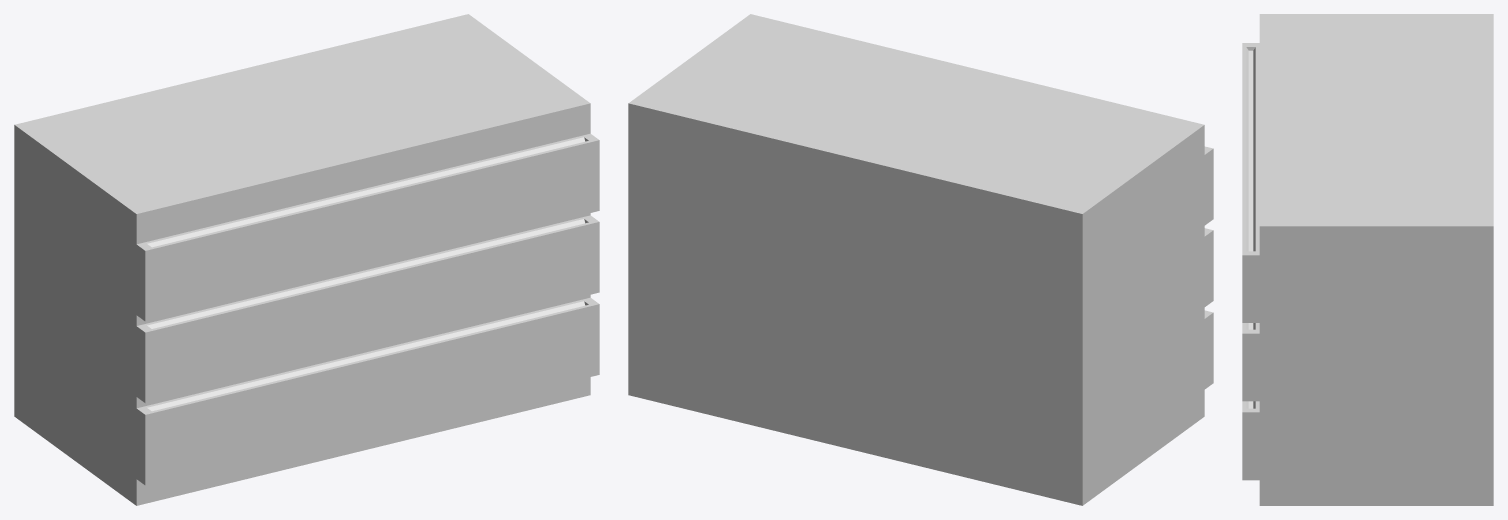
Rendered from DresserLargeV2.fbx.
3 views of the same model, side by side, from view 1: azimuth 30°, elevation 25°; view 2: azimuth 150°, elevation 25°; view 3: azimuth 270°, elevation 25° (orthographic). The views are drawn at different scales.
Parts seen in each view (by area): view 1: DresserLargeV2; view 2: DresserLargeV2; view 3: DresserLargeV2.
Part boxes in pixels (<box>): DresserLargeV2: <box>14,14,599,505</box>; DresserLargeV2: <box>628,14,1213,505</box>; DresserLargeV2: <box>1242,14,1493,505</box>.
Bounding box in the file's own units: 136 × 83.63 × 68.03.
